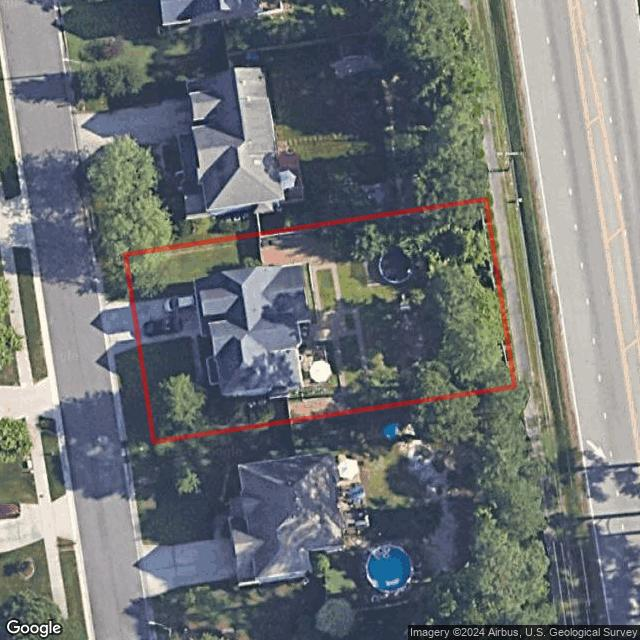Driveway: (133, 293, 205, 345)
Extra-Driveway: (106, 302, 138, 356)
Extra-Lawn: (114, 345, 155, 445), (103, 254, 132, 302)
House: (196, 265, 312, 396)
Lawn: (126, 199, 515, 442)
Other: (259, 225, 373, 399), (378, 247, 414, 284)
Sidewalk: (190, 337, 212, 381)
